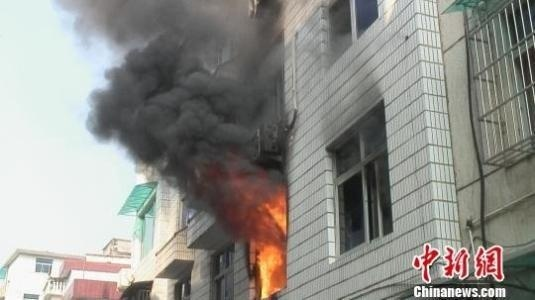fire: (252, 190, 288, 295)
